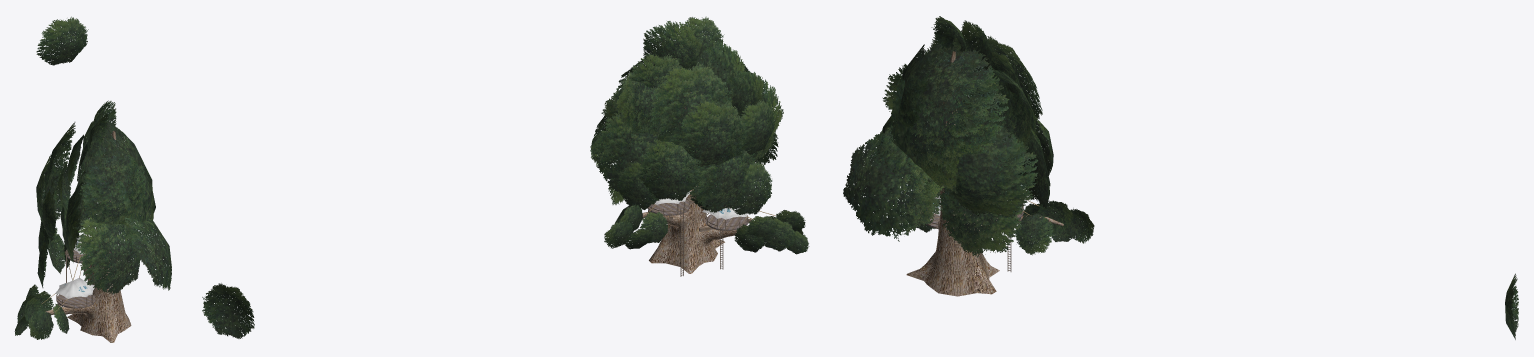
The model's file is tree1_gBIGTREE2.obj.
3 renders of one model, left to right at view 1: azimuth 30°, elevation 25°; view 2: azimuth 150°, elevation 25°; view 3: azimuth 270°, elevation 25°, orthographic. The views are drawn at different scales.
Parts seen in each view (by area): view 1: tree1:polySurface162_0, tree1:polySurface148_0, leaf_billboard_0, tree1:polySurface160_0, tree1:stand_tent31_0, tree1:stand_tent32_0, tree1:polySurface158_0; view 2: tree1:polySurface162_0, tree1:polySurface148_0, leaf_billboard_0, tree1:polySurface160_0, tree1:polySurface158_0; view 3: tree1:polySurface162_0, tree1:polySurface148_0, leaf_billboard_0.
Part boxes in pixels (left/top/right/bottom): tree1:polySurface162_0: left=14, top=100, right=171, bottom=339; tree1:polySurface148_0: left=45, top=131, right=131, bottom=342; leaf_billboard_0: left=36, top=16, right=88, bottom=65; tree1:polySurface160_0: left=56, top=292, right=95, bottom=313; tree1:stand_tent31_0: left=55, top=277, right=94, bottom=298; tree1:stand_tent32_0: left=55, top=278, right=94, bottom=298; tree1:polySurface158_0: left=65, top=249, right=89, bottom=267; tree1:polySurface162_0: left=590, top=16, right=809, bottom=254; tree1:polySurface148_0: left=642, top=81, right=748, bottom=273; leaf_billboard_0: left=202, top=283, right=254, bottom=338; tree1:polySurface160_0: left=699, top=213, right=751, bottom=231; tree1:polySurface158_0: left=647, top=198, right=694, bottom=220; tree1:polySurface162_0: left=843, top=16, right=1094, bottom=257; tree1:polySurface148_0: left=906, top=51, right=1063, bottom=296; leaf_billboard_0: left=1505, top=273, right=1518, bottom=339.
Bounding box in the file's own units: 1301 × 861 × 2003.
